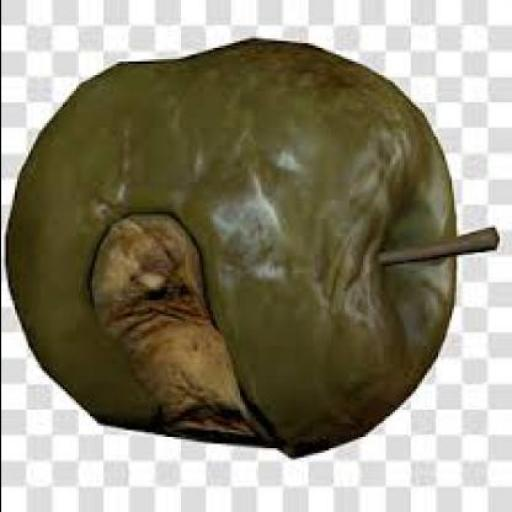biodegradable: (7, 34, 500, 460)
